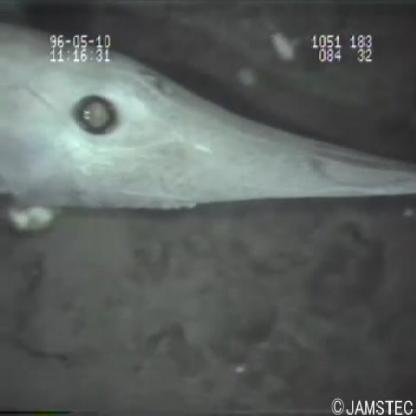Bio: (1, 17, 413, 218)
